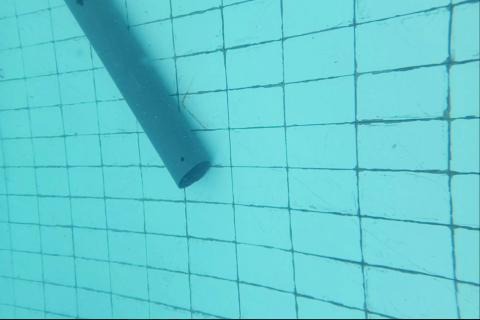kebocoran: (75, 0, 85, 5), (180, 156, 184, 162)
